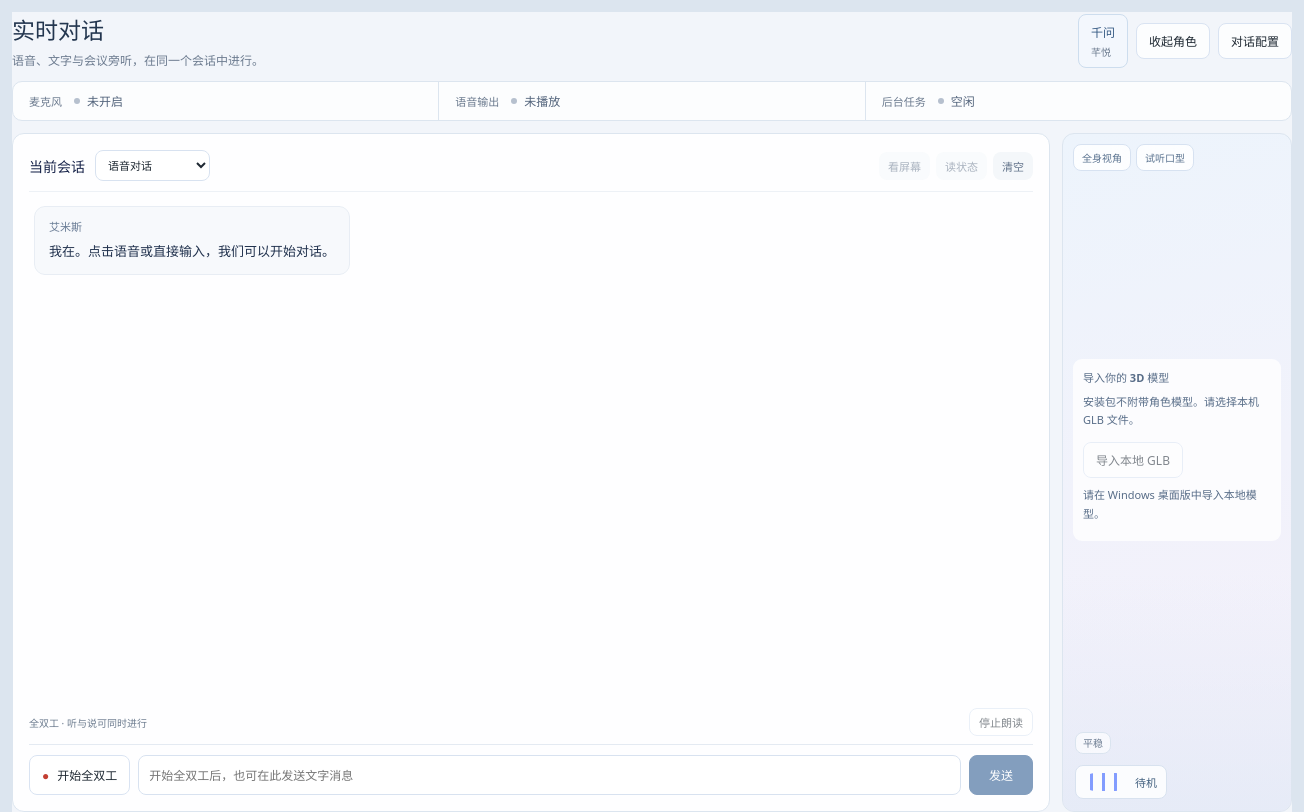
Test: avatar output ownership in the real conversation page › closes on unmount and discards callbacks from the disposed live session
Click the button "●开始全双工" at (80, 775), box [29,755,130,795]
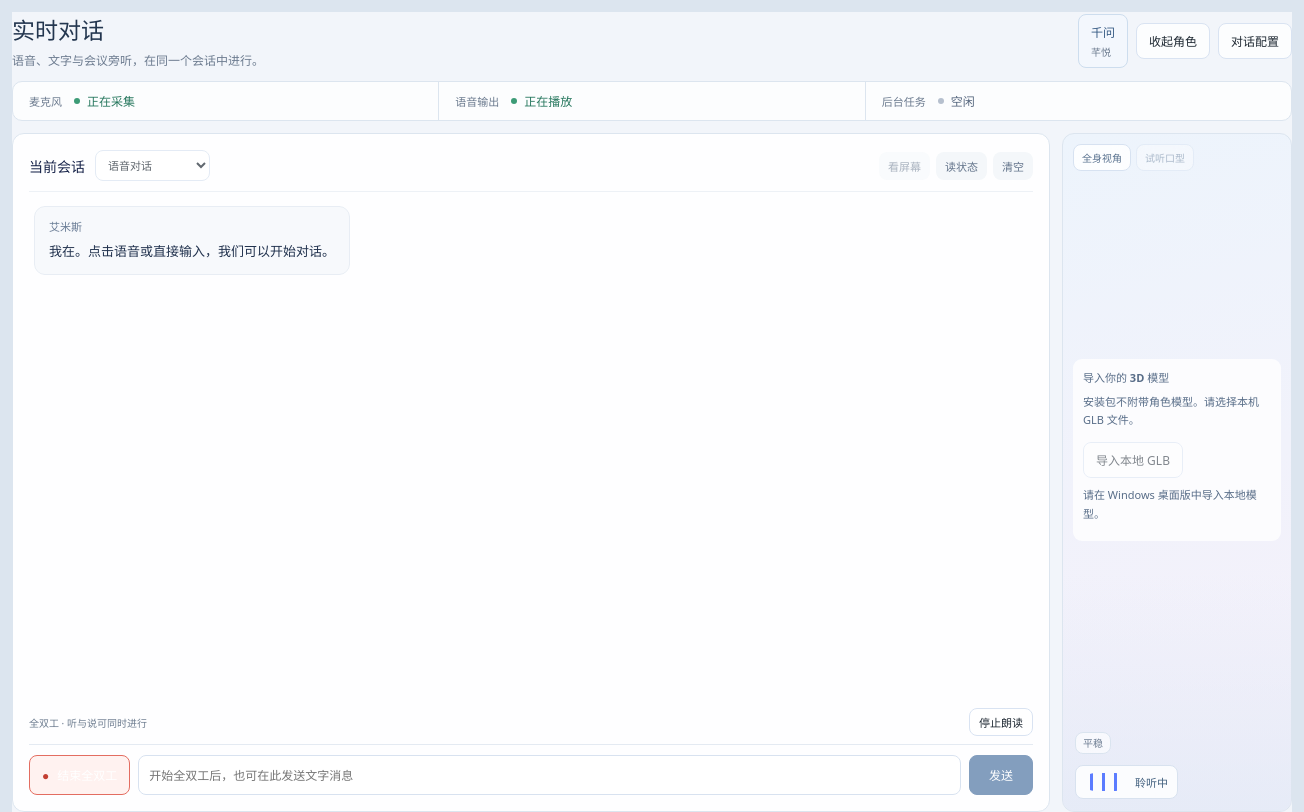
Check: the button "●结束全双工" is shown, box [29,755,130,795]
